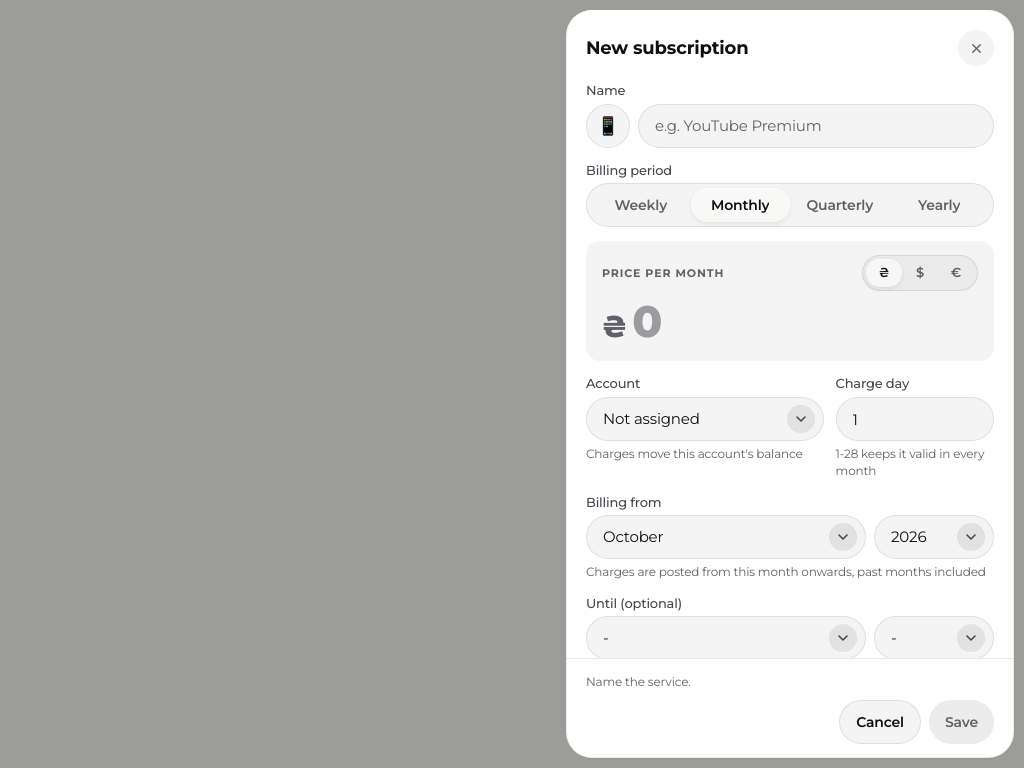
Test: SubscriptionSheet › explains a yearly price as monthly charges
Click the radio button labelled "Yearly" at (939, 205), box 918,196 -> 960,214
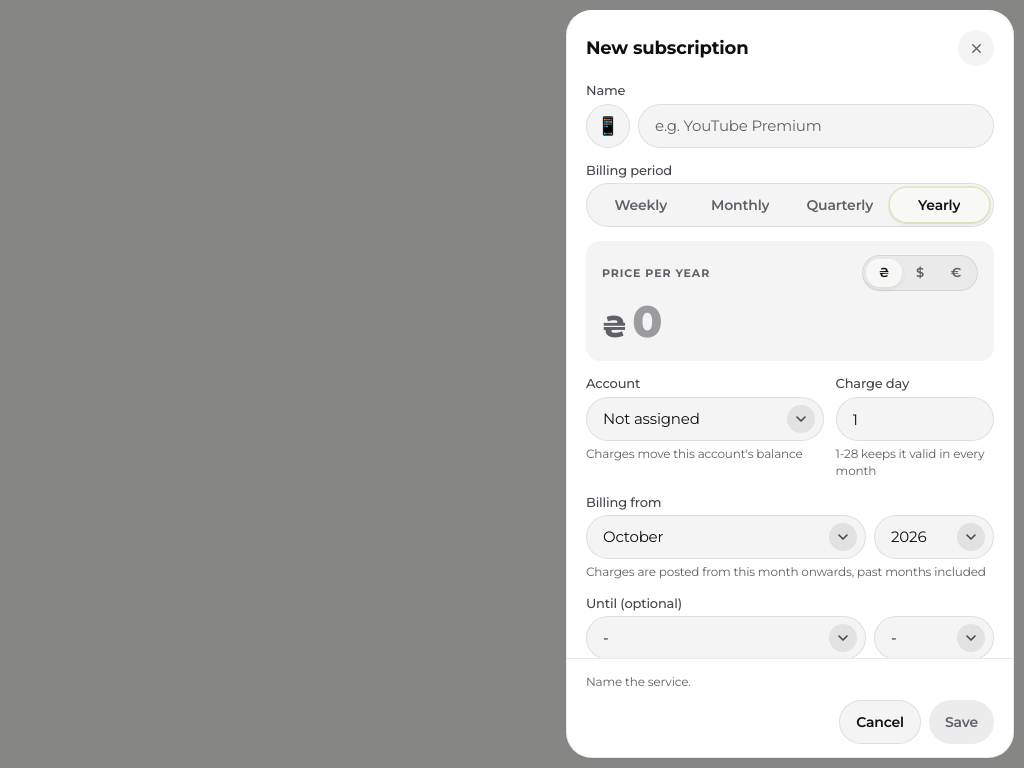
Type "1200" into the field labelled "Price per year" at (805, 321), box 632,297 -> 978,346
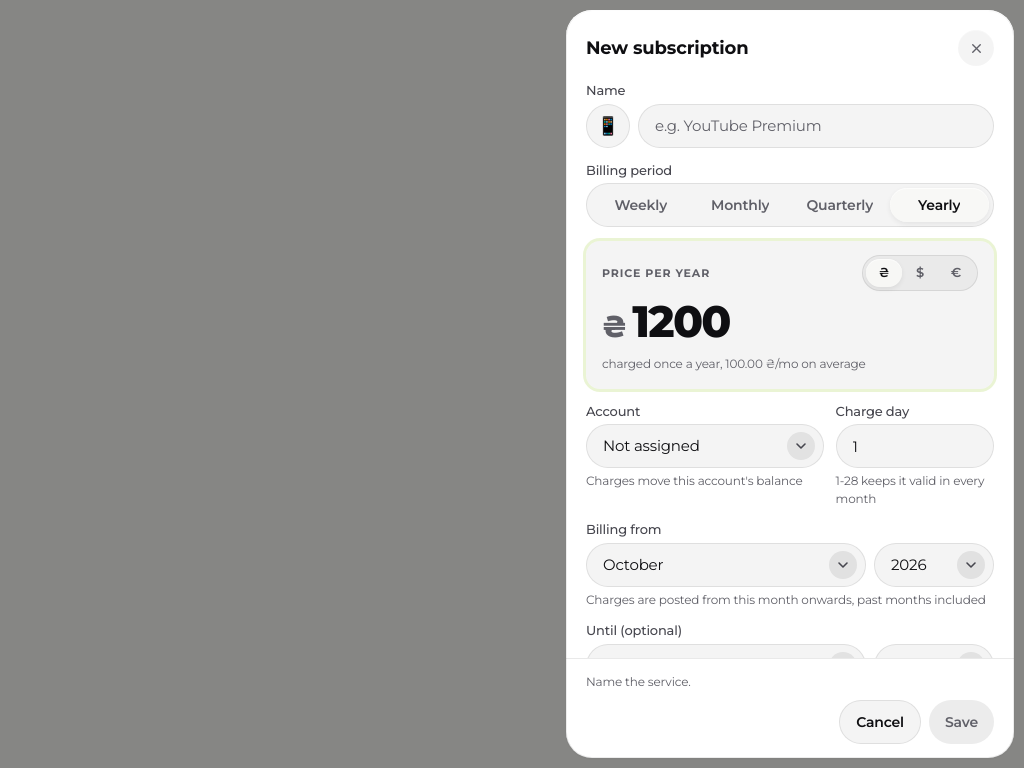
Expected: the text "Name the service." is shown, 586,674 -> 691,689
Expected: the text "charged once a year, 100.00 ₴/mo on average" is shown, 602,356 -> 866,372
